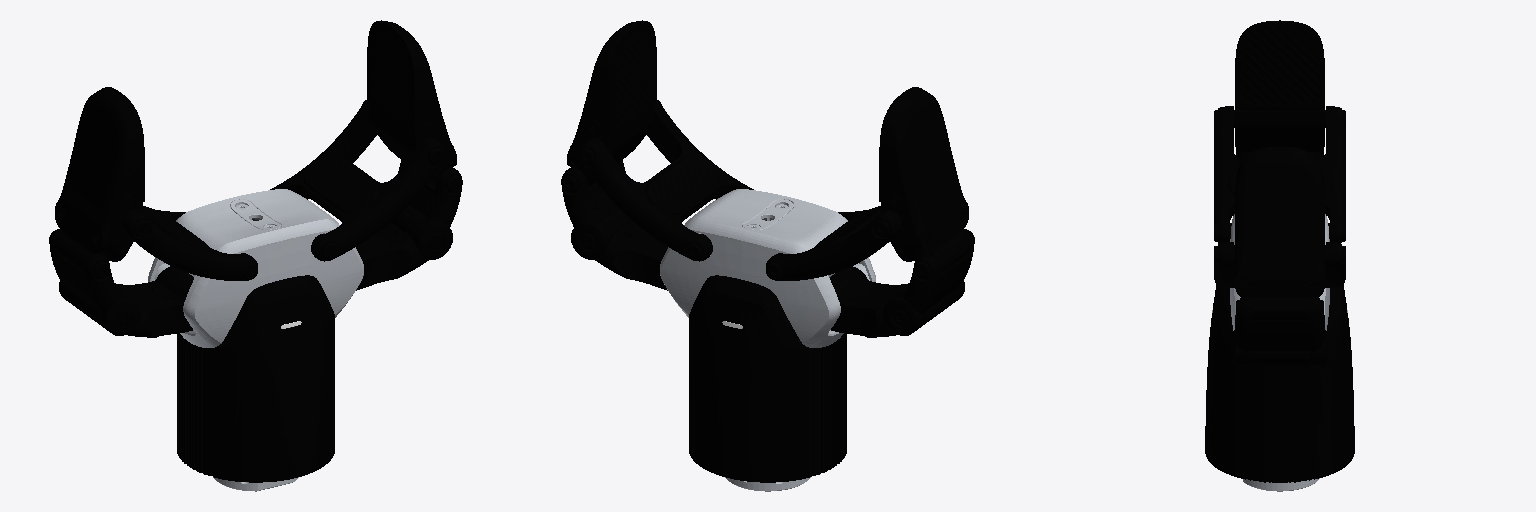
The robot description file, URDF, robot "OP3_P0_URDF_EC":
<?xml version='1.0' encoding='utf-8'?>
<robot name="OP3_P0_URDF_EC">
  <link name="base_link">
    <inertial>
      <origin xyz="4.2468e-07 2.8883e-05 0.04386" rpy="0 0 0" />
      <mass value="0.2244" />
      <inertia ixx="8.2561621197e-05" ixy="9.70852845997e-12" ixz="1.22663852961e-09" iyy="0.000136623490601" iyz="2.16679897366e-08" izz="8.21562276797e-05" />
    </inertial>
    <visual>
      <origin xyz="0 0 0" rpy="0 0 0" />
      <geometry>
        <mesh filename="package://op3_p0_urdf_ec/meshes/base_link_component_STL/法兰接口.STL" scale="0.001 0.001 0.001" />
      </geometry>
      <material name="">
        <color rgba="0.75 0.77 0.80 1" />
      </material>
    </visual>
    <visual>
      <origin xyz="0 0 0" rpy="0 0 0" />
      <geometry>
        <mesh filename="package://op3_p0_urdf_ec/meshes/base_link_component_STL/轴承端盖.STL" scale="0.001 0.001 0.001" />
      </geometry>
      <material name="">
        <color rgba="0.75 0.77 0.80 1" />
      </material>
    </visual>
    <visual>
      <origin xyz="0 0 0" rpy="0 0 0" />
      <geometry>
        <mesh filename="package://op3_p0_urdf_ec/meshes/base_link_component_STL/上壳_l.STL" scale="0.001 0.001 0.001" />
      </geometry>
      <material name="">
        <color rgba="0.75 0.77 0.80 1" />
      </material>
    </visual>
    <visual>
      <origin xyz="0 0 0" rpy="0 0 0" />
      <geometry>
        <mesh filename="package://op3_p0_urdf_ec/meshes/base_link_component_STL/上壳_r.STL" scale="0.001 0.001 0.001" />
      </geometry>
      <material name="">
        <color rgba="0.75 0.77 0.80 1" />
      </material>
    </visual>
    <visual>
      <origin xyz="0 0 0" rpy="0 0 0" />
      <geometry>
        <mesh filename="package://op3_p0_urdf_ec/meshes/base_link_component_STL/透光板_l.STL" scale="0.001 0.001 0.001" />
      </geometry>
      <material name="">
        <color rgba="0.95 0.95 0.95 1" />
      </material>
    </visual>
    <visual>
      <origin xyz="0 0 0" rpy="0 0 0" />
      <geometry>
        <mesh filename="package://op3_p0_urdf_ec/meshes/base_link_component_STL/透光板_r.STL" scale="0.001 0.001 0.001" />
      </geometry>
      <material name="">
        <color rgba="0.95 0.95 0.95 1" />
      </material>
    </visual>
    <visual>
      <origin xyz="0 0 0" rpy="0 0 0" />
      <geometry>
        <mesh filename="package://op3_p0_urdf_ec/meshes/base_link_component_STL/下壳_l.STL" scale="0.001 0.001 0.001" />
      </geometry>
      <material name="">
        <color rgba="0.03 0.03 0.03 1" />
      </material>
    </visual>
    <visual>
      <origin xyz="0 0 0" rpy="0 0 0" />
      <geometry>
        <mesh filename="package://op3_p0_urdf_ec/meshes/base_link_component_STL/下壳_r.STL" scale="0.001 0.001 0.001" />
      </geometry>
      <material name="">
        <color rgba="0.03 0.03 0.03 1" />
      </material>
    </visual>
    <visual>
      <origin xyz="0 0 0" rpy="0 0 0" />
      <geometry>
        <mesh filename="package://op3_p0_urdf_ec/meshes/base_link_component_STL/滚珠丝杠.STL" scale="0.001 0.001 0.001" />
      </geometry>
      <material name="">
        <color rgba="0.25 0.25 0.25 1" />
      </material>
    </visual>
    <collision>
      <origin xyz="0 0 0" rpy="0 0 0" />
      <geometry>
        <mesh filename="package://op3_p0_urdf_ec/meshes/base_link.STL" />
      </geometry>
    </collision>
  </link>
  <link name="link1">
    <inertial>
      <origin xyz="0.00733605994937 4.13532958961e-08 8.35520549917e-05" rpy="0 0 0" />
      <mass value="0.0312" />
      <inertia ixx="3.27142453652e-06" ixy="-1.48856785168e-12" ixz="9.32086831434e-09" iyy="2.09151254783e-06" iyz="3.84999225912e-12" izz="2.38006174899e-06" />
    </inertial>
    <visual>
      <origin xyz="0 0 0" rpy="0 0 0" />
      <geometry>
        <mesh filename="package://op3_p0_urdf_ec/meshes/link1.STL" />
      </geometry>
      <material name="">
        <color rgba="0.03 0.03 0.03 1" />
      </material>
    </visual>
    <collision>
      <origin xyz="0 0 0" rpy="0 0 0" />
      <geometry>
        <mesh filename="package://op3_p0_urdf_ec/meshes/link1.STL" />
      </geometry>
    </collision>
  </link>
  <joint name="joint1" type="prismatic">
    <origin xyz="0 0 0.072" rpy="1.5708 -1.5708 0" />
    <parent link="base_link" />
    <child link="link1" />
    <axis xyz="1 0 0" />
    <limit lower="0" upper="20" effort="0" velocity="0" />
  </joint>
  <link name="link12">
    <inertial>
      <origin xyz="0.00500045989424 1.22046368432e-06 -5.6943855775e-05" rpy="0 0 0" />
      <mass value="0.0087" />
      <inertia ixx="3.06668192575e-07" ixy="-3.60397188717e-12" ixz="-6.97960255487e-13" iyy="4.90806919371e-07" iyz="-3.25044918597e-12" izz="2.47597684371e-07" />
    </inertial>
    <visual>
      <origin xyz="0 0 0" rpy="0 0 0" />
      <geometry>
        <mesh filename="package://op3_p0_urdf_ec/meshes/link12.STL" />
      </geometry>
      <material name="">
        <color rgba="0.03 0.03 0.03 1" />
      </material>
    </visual>
    <collision>
      <origin xyz="0 0 0" rpy="0 0 0" />
      <geometry>
        <mesh filename="package://op3_p0_urdf_ec/meshes/link12.STL" />
      </geometry>
    </collision>
  </link>
  <joint name="joint12" type="revolute">
    <origin xyz="0.0115 -0.014 0" rpy="0 0 -2.9019" />
    <parent link="link1" />
    <child link="link12" />
    <axis xyz="0 0 -1" />
    <limit lower="-1.57" upper="1.57" effort="0" velocity="0" />
  </joint>
  <link name="link13">
    </link>
  <joint name="joint13" type="revolute">
    <origin xyz="0.01 0 0" rpy="0 0 1.106" />
    <parent link="link12" />
    <child link="link13" />
    <axis xyz="0 0 -1" />
    <limit lower="-1.57" upper="1.57" effort="0" velocity="0" />
  </joint>
  <link name="link22">
    <inertial>
      <origin xyz="0.00500045989424 1.22046368432e-06 -5.6943855775e-05" rpy="0 0 0" />
      <mass value="0.0087" />
      <inertia ixx="3.06668192575e-07" ixy="-3.6039718872e-12" ixz="-6.97960255383e-13" iyy="4.90806919371e-07" iyz="-3.25044918597e-12" izz="2.47597684371e-07" />
    </inertial>
    <visual>
      <origin xyz="0 0 0" rpy="0 0 0" />
      <geometry>
        <mesh filename="package://op3_p0_urdf_ec/meshes/link22.STL" />
      </geometry>
      <material name="">
        <color rgba="0.03 0.03 0.03 1" />
      </material>
    </visual>
    <collision>
      <origin xyz="0 0 0" rpy="0 0 0" />
      <geometry>
        <mesh filename="package://op3_p0_urdf_ec/meshes/link22.STL" />
      </geometry>
    </collision>
  </link>
  <joint name="joint22" type="revolute">
    <origin xyz="0.0115 0.014 0" rpy="0 0 2.9019" />
    <parent link="link1" />
    <child link="link22" />
    <axis xyz="0 0 -1" />
    <limit lower="-1.57" upper="1.57" effort="0" velocity="0" />
  </joint>
  <link name="link23">
    </link>
  <joint name="joint23" type="revolute">
    <origin xyz="0.01 0 0" rpy="0 0 -1.106" />
    <parent link="link22" />
    <child link="link23" />
    <axis xyz="0 0 -1" />
    <limit lower="-1.57" upper="1.57" effort="0" velocity="0" />
  </joint>
  <link name="link14">
    <inertial>
      <origin xyz="0.016679 0.0020613 -3.3127e-06" rpy="0 0 0" />
      <mass value="0.037862598693" />
      <inertia ixx="3.67691850997e-06" ixy="-8.52358119112e-07" ixz="1.14166855635e-10" iyy="1.14528767858e-05" iyz="5.44206312231e-11" izz="9.48188088808e-06" />
    </inertial>
    <visual>
      <origin xyz="0 0 0" rpy="0 0 0" />
      <geometry>
        <mesh filename="package://op3_p0_urdf_ec/meshes/link14.STL" />
      </geometry>
      <material name="">
        <color rgba="0.03 0.03 0.03 1" />
      </material>
    </visual>
    <collision>
      <origin xyz="0 0 0" rpy="0 0 0" />
      <geometry>
        <mesh filename="package://op3_p0_urdf_ec/meshes/link14.STL" />
      </geometry>
    </collision>
  </link>
  <joint name="joint14" type="revolute">
    <origin xyz="0.030021 0 0.07066" rpy="-1.5708 -0.19232 0" />
    <parent link="base_link" />
    <child link="link14" />
    <axis xyz="0 0 -1" />
    <limit lower="-1.57" upper="1.57" effort="0" velocity="0" />
  </joint>
  <link name="link15">
    <inertial>
      <origin xyz="0.00998631269196 -0.00114392141357 -3.0196503966e-07" rpy="0 0 0" />
      <mass value="0.015337401307" />
      <inertia ixx="2.88994861645e-06" ixy="3.24721776294e-08" ixz="-4.62025060915e-11" iyy="3.69508489943e-06" iyz="-5.10413754474e-11" izz="1.20117321689e-06" />
    </inertial>
    <visual>
      <origin xyz="0 0 0" rpy="0 0 0" />
      <geometry>
        <mesh filename="package://op3_p0_urdf_ec/meshes/link15.STL" />
      </geometry>
      <material name="">
        <color rgba="0.03 0.03 0.03 1" />
      </material>
    </visual>
    <collision>
      <origin xyz="0 0 0" rpy="0 0 0" />
      <geometry>
        <mesh filename="package://op3_p0_urdf_ec/meshes/link15.STL" />
      </geometry>
    </collision>
  </link>
  <joint name="joint15" type="fixed">
    <origin xyz="0.039 0 0" rpy="3.1416 0 -0.98749" />
    <parent link="link14" />
    <child link="link15" />
    <axis xyz="0 0 0" />
  </joint>
  <link name="link16">
    <inertial>
      <origin xyz="0.0093693 -0.023586 -4.2278e-06" rpy="0 0 0" />
      <mass value="0.0567" />
      <inertia ixx="1.33224822064e-05" ixy="1.64716414591e-06" ixz="-1.00385231317e-10" iyy="7.95543149466e-06" iyz="1.536886121e-09" izz="7.70572953737e-06" />
    </inertial>
    <visual>
      <origin xyz="0 0 0" rpy="0 0 0" />
      <geometry>
        <mesh filename="package://op3_p0_urdf_ec/meshes/link16.STL" />
      </geometry>
      <material name="">
        <color rgba="0.03 0.03 0.03 1" />
      </material>
    </visual>
    <collision>
      <origin xyz="0 0 0" rpy="0 0 0" />
      <geometry>
        <mesh filename="package://op3_p0_urdf_ec/meshes/link16.STL" />
      </geometry>
    </collision>
  </link>
  <joint name="joint16" type="revolute">
    <origin xyz="0.023 0 0" rpy="0 0 1.9618" />
    <parent link="link15" />
    <child link="link16" />
    <axis xyz="0 0 1" />
    <limit lower="-1.57" upper="1.57" effort="0" velocity="0" />
  </joint>
  <link name="link24">
    <inertial>
      <origin xyz="0.016679 0.0020613 -3.3127e-06" rpy="0 0 0" />
      <mass value="0.037862598693" />
      <inertia ixx="3.67691850997e-06" ixy="-8.52358119112e-07" ixz="1.11238656744e-10" iyy="1.14528767858e-05" iyz="5.44677894824e-11" izz="9.48188088808e-06" />
    </inertial>
    <visual>
      <origin xyz="0 0 0" rpy="0 0 0" />
      <geometry>
        <mesh filename="package://op3_p0_urdf_ec/meshes/link24.STL" />
      </geometry>
      <material name="">
        <color rgba="0.03 0.03 0.03 1" />
      </material>
    </visual>
    <collision>
      <origin xyz="0 0 0" rpy="0 0 0" />
      <geometry>
        <mesh filename="package://op3_p0_urdf_ec/meshes/link24.STL" />
      </geometry>
    </collision>
  </link>
  <joint name="joint24" type="revolute">
    <origin xyz="-0.030021 0 0.07066" rpy="-1.5708 -0.19232 3.1416" />
    <parent link="base_link" />
    <child link="link24" />
    <axis xyz="0 0 1" />
    <limit lower="-1.57" upper="1.57" effort="0" velocity="0" />
  </joint>
  <link name="link25">
    <inertial>
      <origin xyz="0.00998631269196 0.00114392141357 3.01965036069e-07" rpy="0 0 0" />
      <mass value="0.015337401307" />
      <inertia ixx="2.88994861644e-06" ixy="-3.24721776286e-08" ixz="4.62025071224e-11" iyy="3.69508489943e-06" iyz="-5.10413754685e-11" izz="1.20117321689e-06" />
    </inertial>
    <visual>
      <origin xyz="0 0 0" rpy="0 0 0" />
      <geometry>
        <mesh filename="package://op3_p0_urdf_ec/meshes/link25.STL" />
      </geometry>
      <material name="">
        <color rgba="0.03 0.03 0.03 1" />
      </material>
    </visual>
    <collision>
      <origin xyz="0 0 0" rpy="0 0 0" />
      <geometry>
        <mesh filename="package://op3_p0_urdf_ec/meshes/link25.STL" />
      </geometry>
    </collision>
  </link>
  <joint name="joint25" type="fixed">
    <origin xyz="0.039 0 0" rpy="0 0 -0.98749" />
    <parent link="link24" />
    <child link="link25" />
    <axis xyz="0 0 0" />
  </joint>
  <link name="link26">
    <inertial>
      <origin xyz="0.0093691 0.023587 4.2276e-06" rpy="0 0 0" />
      <mass value="0.0567" />
      <inertia ixx="1.33224822064e-05" ixy="-1.64716414591e-06" ixz="1.00382428826e-10" iyy="7.95543149466e-06" iyz="1.536886121e-09" izz="7.70572953737e-06" />
    </inertial>
    <visual>
      <origin xyz="0 0 0" rpy="0 0 0" />
      <geometry>
        <mesh filename="package://op3_p0_urdf_ec/meshes/link26.STL" />
      </geometry>
      <material name="">
        <color rgba="0.03 0.03 0.03 1" />
      </material>
    </visual>
    <collision>
      <origin xyz="0 0 0" rpy="0 0 0" />
      <geometry>
        <mesh filename="package://op3_p0_urdf_ec/meshes/link26.STL" />
      </geometry>
    </collision>
  </link>
  <joint name="joint26" type="revolute">
    <origin xyz="0.023 0 0" rpy="0 0 -1.9618" />
    <parent link="link25" />
    <child link="link26" />
    <axis xyz="0 0 -1" />
    <limit lower="-1.57" upper="1.57" effort="0" velocity="0" />
  </joint>
  <link name="link17">
    <inertial>
      <origin xyz="0.024516 0.0030808 -3.7752e-06" rpy="0 0 0" />
      <mass value="0.0345" />
      <inertia ixx="1.13955347299e-05" ixy="1.31270672547e-07" ixz="7.8730154355e-10" iyy="1.67439360529e-05" iyz="4.64379823594e-11" izz="5.94087651599e-06" />
    </inertial>
    <visual>
      <origin xyz="0 0 0" rpy="0 0 0" />
      <geometry>
        <mesh filename="package://op3_p0_urdf_ec/meshes/link17.STL" />
      </geometry>
      <material name="">
        <color rgba="0.03 0.03 0.03 1" />
      </material>
    </visual>
    <collision>
      <origin xyz="0 0 0" rpy="0 0 0" />
      <geometry>
        <mesh filename="package://op3_p0_urdf_ec/meshes/link17.STL" />
      </geometry>
    </collision>
  </link>
  <joint name="joint17" type="revolute">
    <origin xyz="0.0175 0 0.08875" rpy="-1.5708 -0.54793 0" />
    <parent link="base_link" />
    <child link="link17" />
    <axis xyz="0 0 -1" />
    <limit lower="-1.57" upper="1.57" effort="0" velocity="0" />
  </joint>
  <link name="link18">
    </link>
  <joint name="joint18" type="revolute">
    <origin xyz="0.055 0 0" rpy="0 0 -2.5937" />
    <parent link="link17" />
    <child link="link18" />
    <axis xyz="0 0 -1" />
    <limit lower="-1.57" upper="1.57" effort="0" velocity="0" />
  </joint>
  <link name="link27">
    <inertial>
      <origin xyz="0.024516 0.0030808 -3.3912e-06" rpy="0 0 0" />
      <mass value="0.0345" />
      <inertia ixx="1.13952616063e-05" ixy="1.31267526304e-07" ixz="8.53755722263e-10" iyy="1.6743534741e-05" iyz="3.71881935623e-11" izz="5.94073412746e-06" />
    </inertial>
    <visual>
      <origin xyz="0 0 0" rpy="0 0 0" />
      <geometry>
        <mesh filename="package://op3_p0_urdf_ec/meshes/link27.STL" />
      </geometry>
      <material name="">
        <color rgba="0.03 0.03 0.03 1" />
      </material>
    </visual>
    <collision>
      <origin xyz="0 0 0" rpy="0 0 0" />
      <geometry>
        <mesh filename="package://op3_p0_urdf_ec/meshes/link27.STL" />
      </geometry>
    </collision>
  </link>
  <joint name="joint27" type="revolute">
    <origin xyz="-0.0175 0 0.08875" rpy="-1.5708 -0.54793 3.1416" />
    <parent link="base_link" />
    <child link="link27" />
    <axis xyz="0 0 -1" />
    <limit lower="-1.57" upper="1.57" effort="0" velocity="0" />
  </joint>
  <link name="link28">
    </link>
  <joint name="joint28" type="revolute">
    <origin xyz="0.055 0 0" rpy="0 0 -2.5937" />
    <parent link="link27" />
    <child link="link28" />
    <axis xyz="0 0 1" />
    <limit lower="-1.57" upper="1.57" effort="0" velocity="0" />
  </joint>
</robot>

--- Render facts (derived) ---
Views: 3 orthographic renders of the robot side by side, from view 1: azimuth 30°, elevation 25°; view 2: azimuth 150°, elevation 25°; view 3: azimuth 270°, elevation 25°.
Model OP3_P0_URDF_EC with 16 links and 15 joints (12 revolute, 1 prismatic, 2 fixed), rooted at base_link, posed every joint at zero.
Visible links, largest first — view 1: base_link, link26, link17, link16, link27, link24, link14, link25, link15; view 2: base_link, link26, link17, link16, link27, link24, link14, link25, link15; view 3: base_link, link16, link26, link27, link15, link17, link14.
Boxes of the visible links, box(x1,y1,x2,y2) form: base_link: box(148, 189, 363, 491); link26: box(49, 87, 150, 278); link17: box(270, 100, 445, 261); link16: box(362, 20, 462, 192); link27: box(122, 206, 257, 280); link24: box(67, 266, 193, 337); link14: box(311, 205, 443, 290); link25: box(49, 229, 140, 335); link15: box(398, 160, 462, 259); base_link: box(660, 189, 875, 491); link26: box(873, 87, 974, 278); link17: box(578, 100, 753, 261); link16: box(561, 20, 661, 192); link27: box(766, 206, 901, 280); link24: box(830, 266, 956, 337); link14: box(580, 205, 712, 290); link25: box(883, 229, 974, 335); link15: box(561, 160, 625, 259); base_link: box(1205, 214, 1354, 491); link16: box(1214, 146, 1345, 319); link26: box(1214, 20, 1345, 154); link27: box(1214, 106, 1345, 243); link15: box(1233, 296, 1326, 365); link17: box(1214, 242, 1345, 287); link14: box(1249, 351, 1310, 365).
Size in the robot's own frame: 0.1641 by 0.06 by 0.1728 metres.
20 mesh visuals loaded from 20 distinct referenced files (20 binary STL).
